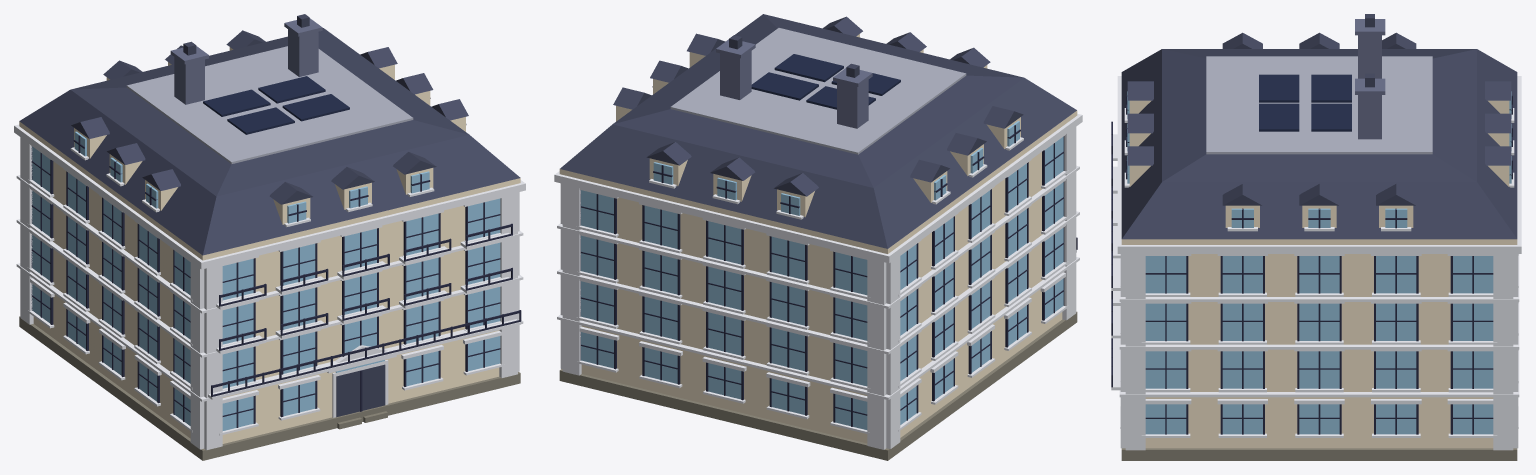
File: house-2x2-4f-haussmann-a-solar.glb
3 views of the same model, side by side, from view 1: azimuth 30°, elevation 25°; view 2: azimuth 150°, elevation 25°; view 3: azimuth 270°, elevation 25° (orthographic). The views are drawn at different scales.
Visible parts, largest first — view 1: house-2x2-4f-haussmann-a-solar; view 2: house-2x2-4f-haussmann-a-solar; view 3: house-2x2-4f-haussmann-a-solar.
Boxes of the visible parts, <box> form: house-2x2-4f-haussmann-a-solar: <box>14,14,525,460</box>; house-2x2-4f-haussmann-a-solar: <box>554,14,1082,460</box>; house-2x2-4f-haussmann-a-solar: <box>1111,14,1521,460</box>.
Bounding box in the file's own units: 2 × 1.81 × 2.03.
1 material, 1 textured.
